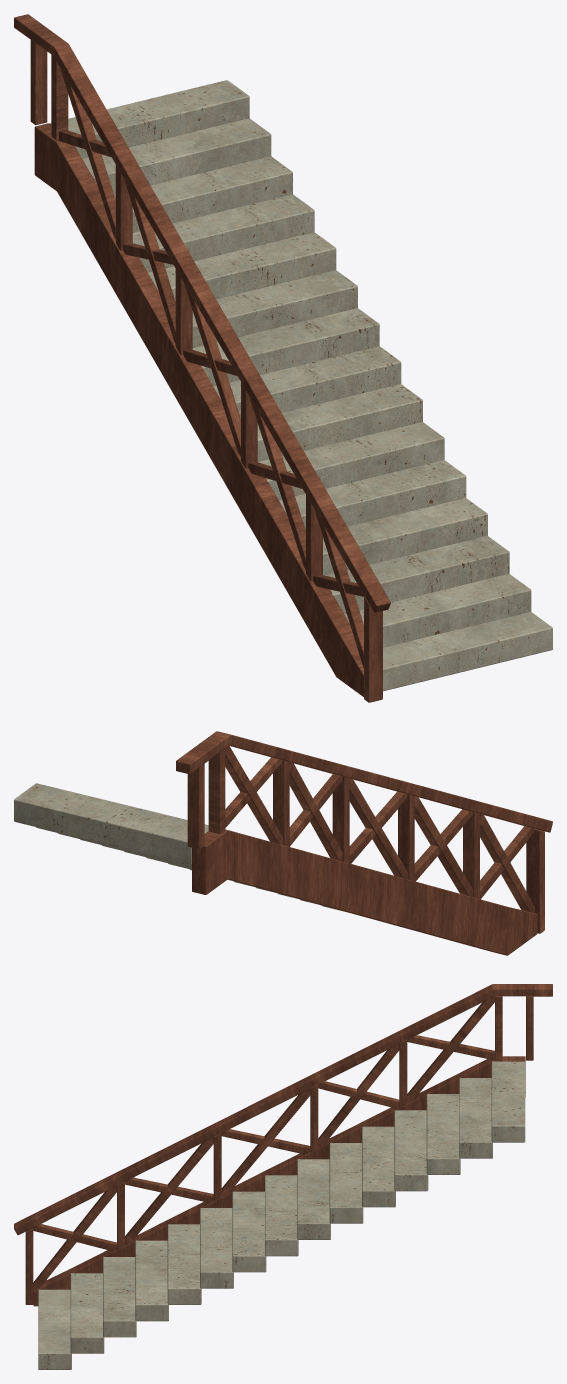
The model's file is RC_Small_Building_04_Steps_01.gltf.
3 views of the same model, one above another, from view 1: azimuth 30°, elevation 25°; view 2: azimuth 150°, elevation 25°; view 3: azimuth 270°, elevation 25° (orthographic). The views are drawn at different scales.
Parts seen in each view (by area): view 1: RC_Small_Building_04_Steps_01(Clone); view 2: RC_Small_Building_04_Steps_01(Clone); view 3: RC_Small_Building_04_Steps_01(Clone).
Boxes of the visible parts, <box> form: RC_Small_Building_04_Steps_01(Clone): <box>14,14,552,702</box>; RC_Small_Building_04_Steps_01(Clone): <box>14,731,552,955</box>; RC_Small_Building_04_Steps_01(Clone): <box>14,984,552,1369</box>.
Bounding box in the file's own units: 1.79 × 3.74 × 5.76.
2 materials, 2 textured.
